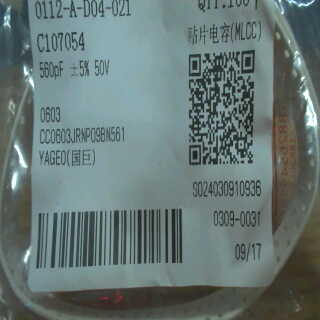560pF: (35, 58, 66, 83)
